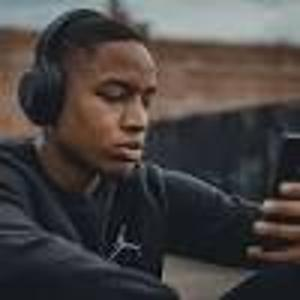Headphones: (16, 5, 160, 128)
